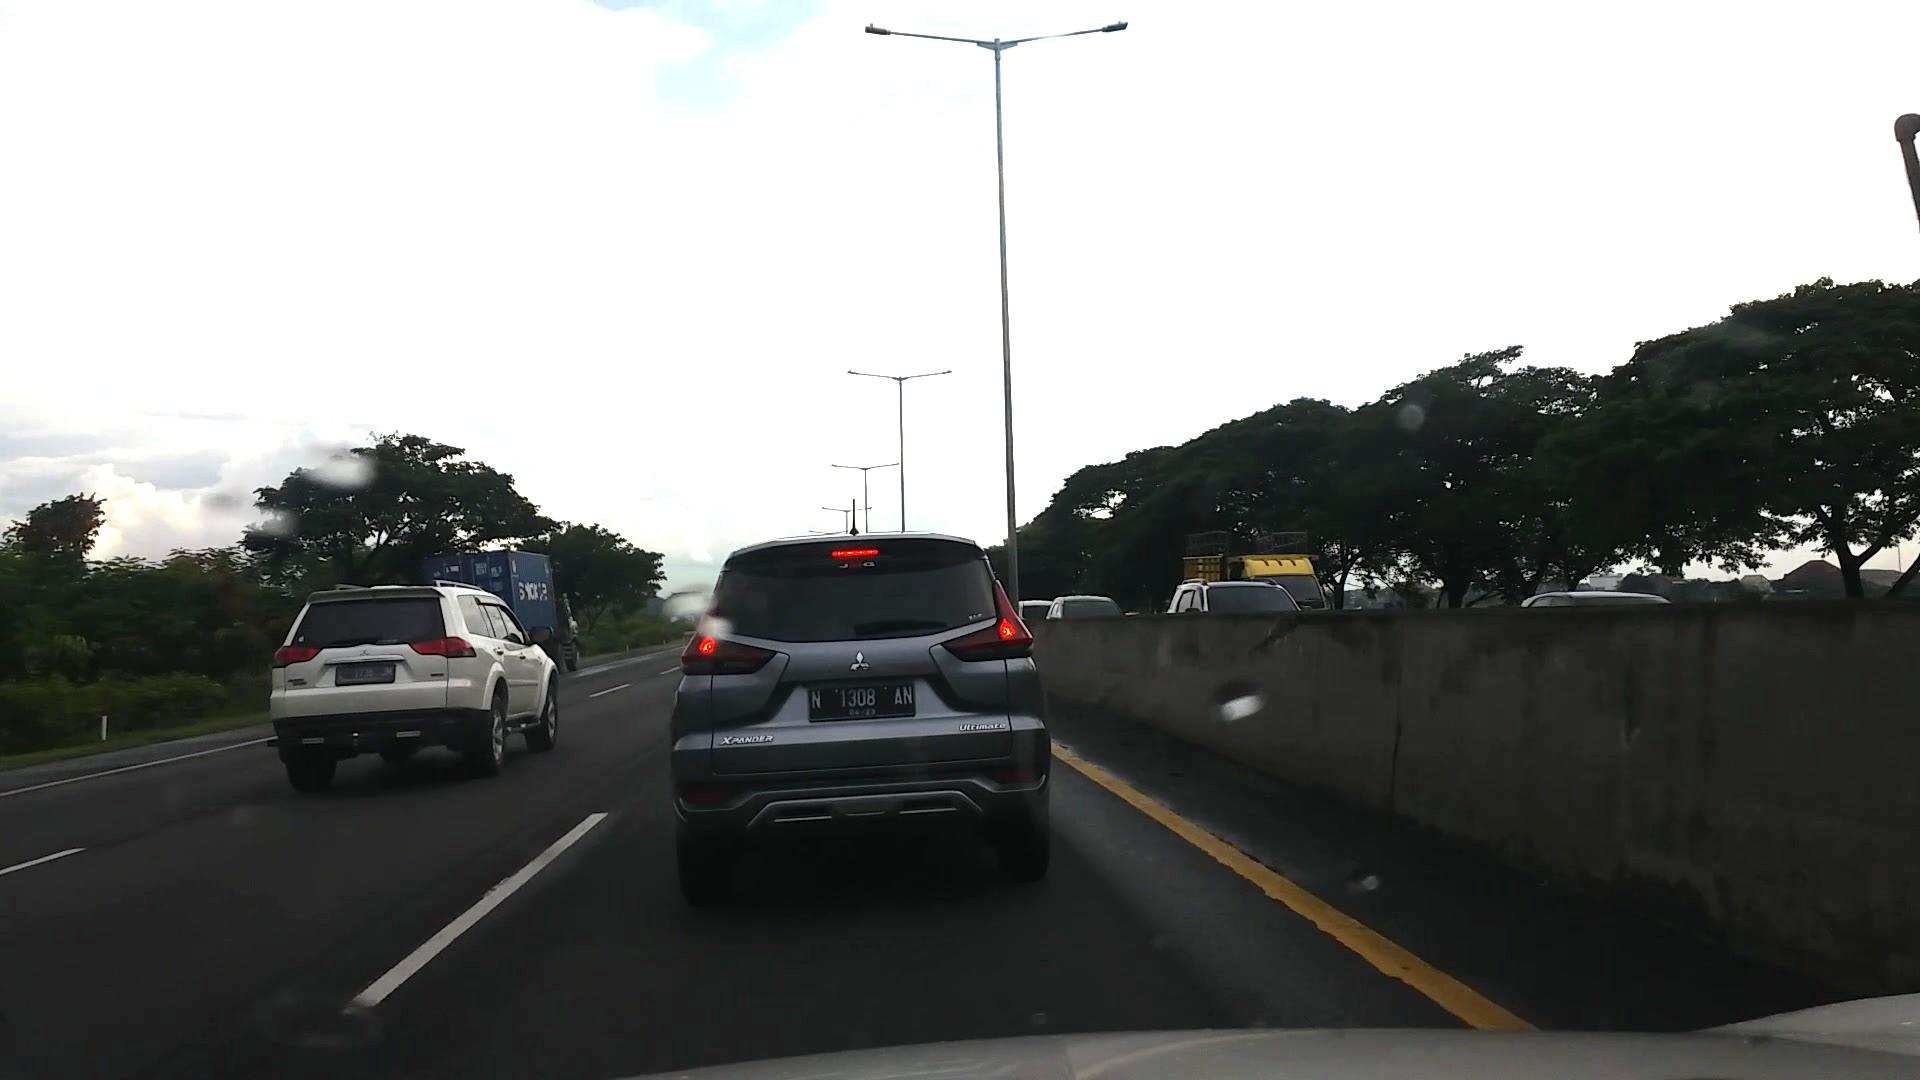plate_positive: (808, 684, 916, 721)
